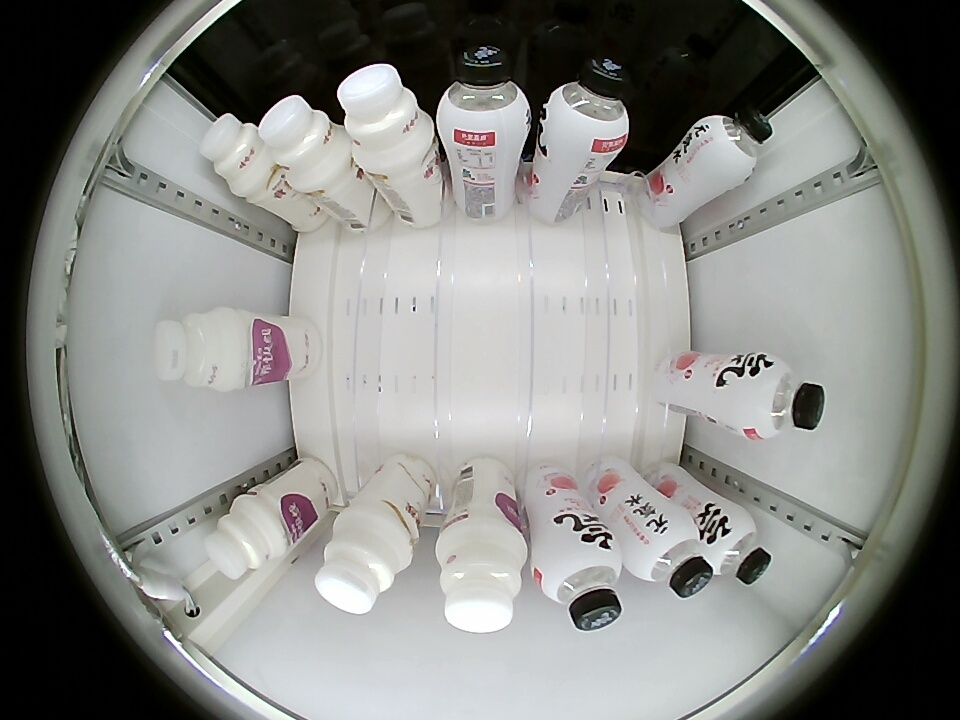yingyangkuaixian: (337, 64, 436, 169), (436, 522, 529, 633), (315, 509, 413, 614), (259, 95, 350, 190), (153, 307, 248, 391), (205, 491, 290, 579), (201, 113, 274, 197)
yuanqishui: (437, 42, 532, 148), (539, 56, 631, 158), (531, 531, 624, 630), (731, 353, 825, 442), (627, 512, 714, 598), (695, 104, 775, 184), (700, 507, 772, 585)
